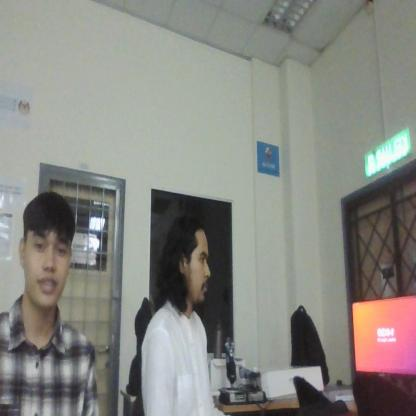Open-Eyes: (24, 226, 74, 262), (196, 244, 209, 272)
